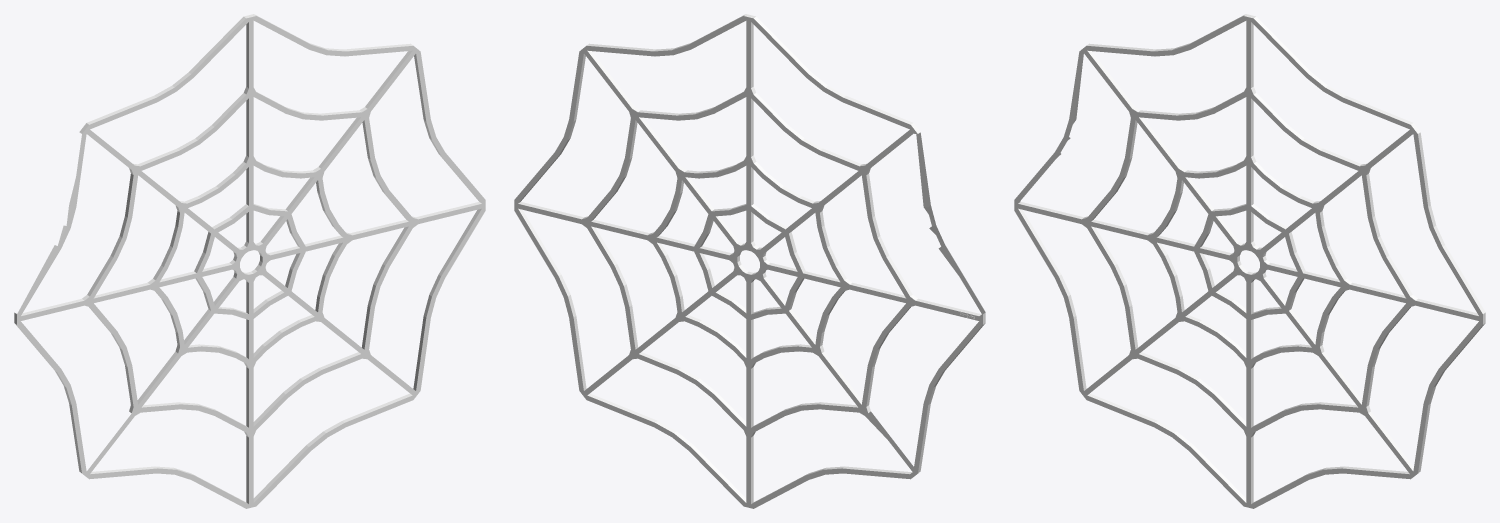
The model's file is spider_web.fbx.
3 renders of one model, left to right at view 1: azimuth 30°, elevation 25°; view 2: azimuth 150°, elevation 25°; view 3: azimuth 330°, elevation 25°, orthographic.
Visible parts, largest first — view 1: Circle.2005; view 2: Circle.2005; view 3: Circle.2005.
Part boxes in pixels (x1,y1,x2,y2): Circle.2005: [14, 14, 485, 508]; Circle.2005: [514, 14, 985, 508]; Circle.2005: [1014, 14, 1485, 508].
Bounding box in the file's own units: 233 × 233 × 2.53.
Materials: 1 (1 with a texture image).
